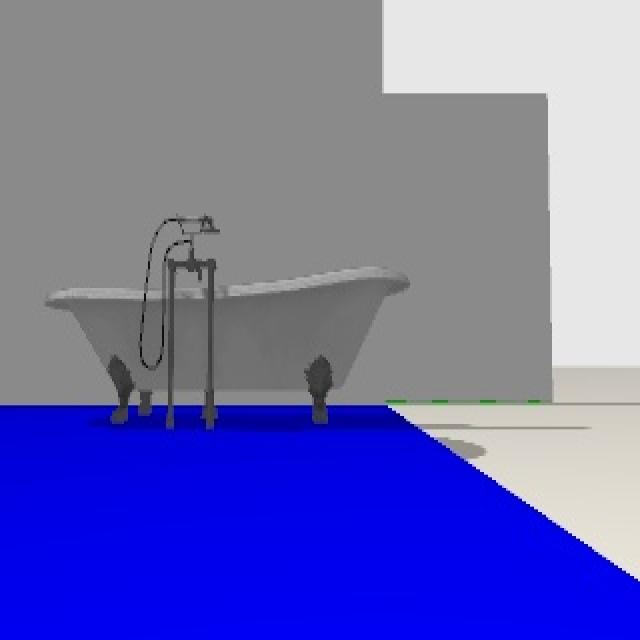bathtub: (46, 214, 408, 428)
